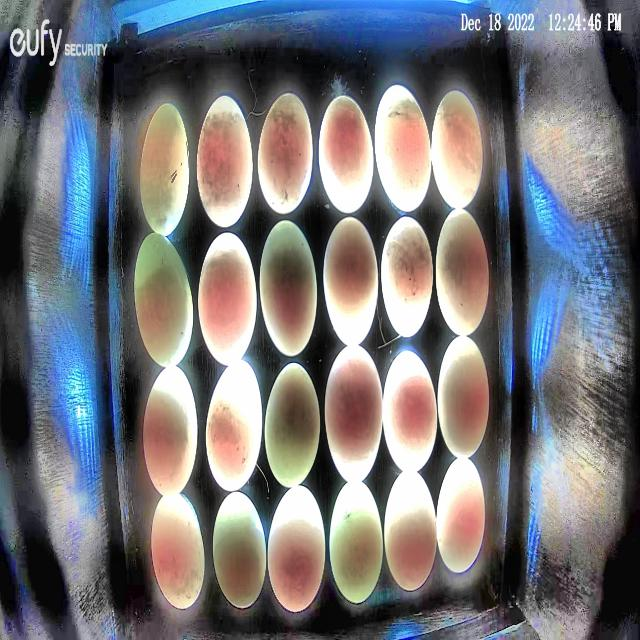UF: (324, 340, 384, 485), (132, 232, 195, 368), (258, 218, 319, 358), (196, 230, 258, 367), (194, 95, 253, 230), (141, 364, 200, 499), (374, 82, 433, 214), (267, 483, 326, 612), (205, 361, 263, 492), (322, 215, 379, 348), (263, 361, 321, 489), (435, 206, 490, 338), (256, 92, 314, 217), (317, 94, 376, 215), (139, 101, 191, 238), (382, 348, 438, 475), (329, 478, 385, 605), (150, 490, 206, 610), (383, 470, 438, 592), (380, 214, 434, 338), (211, 489, 267, 608), (430, 90, 484, 212), (436, 337, 489, 460), (437, 458, 487, 574)
